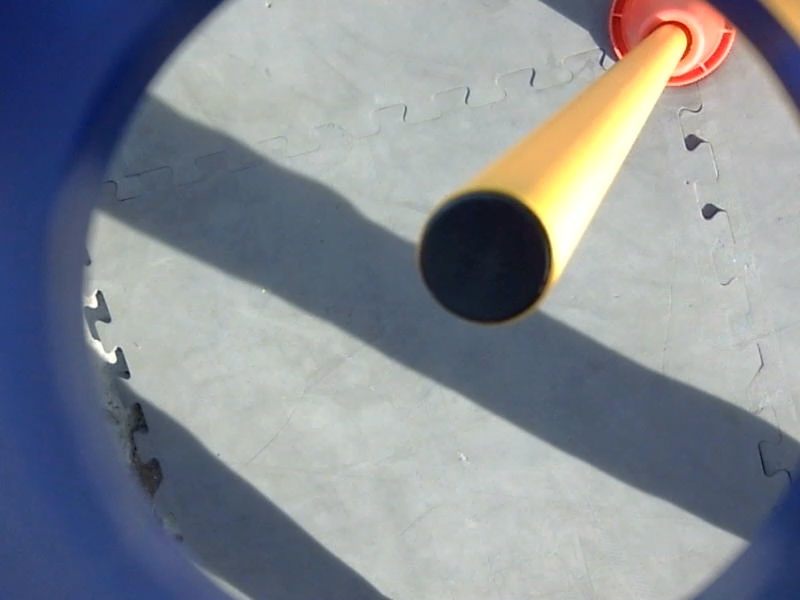tip: (411, 184, 559, 332)
